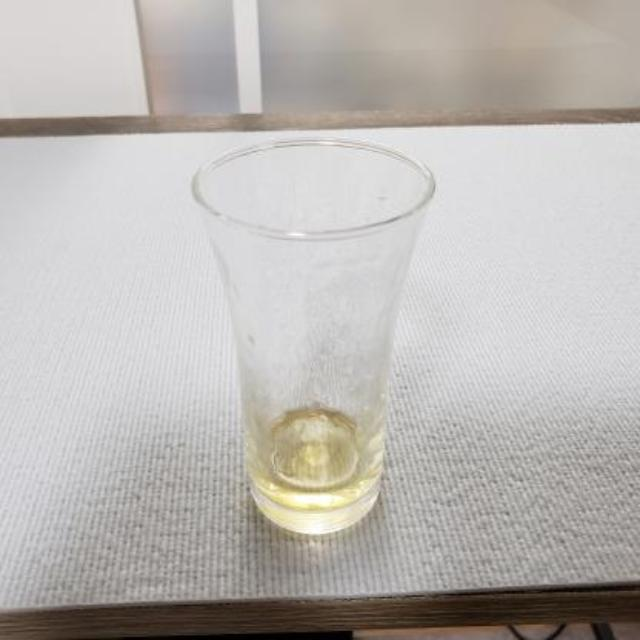glass: (192, 137, 433, 545)
